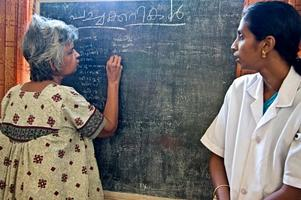person: (2, 17, 122, 200)
